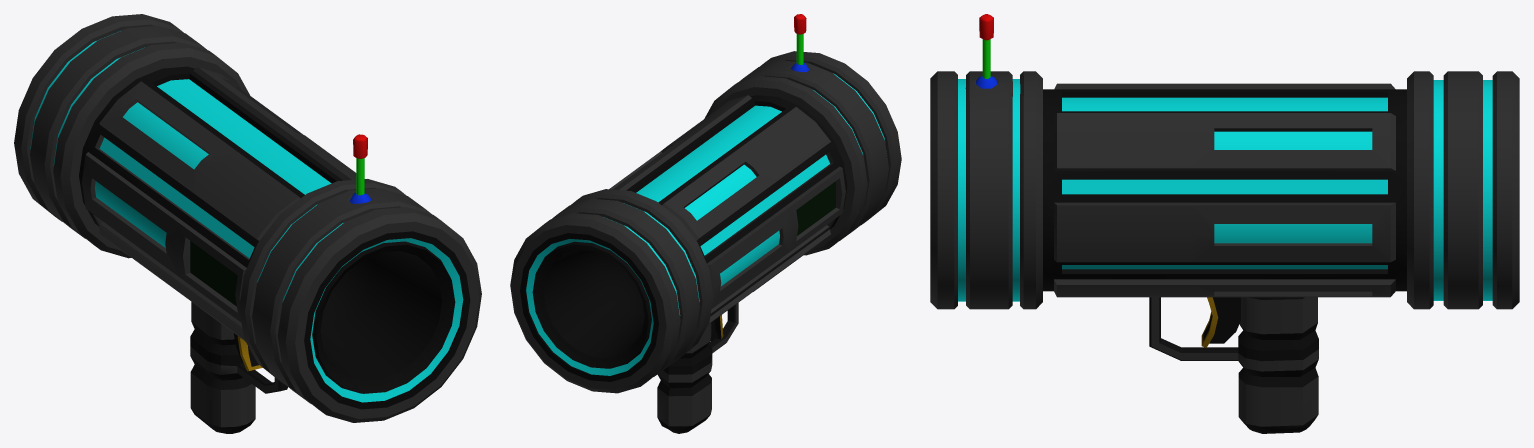
Rendered from homing_bazooka.fbx.
The picture shows the model from 3 angles, left to right: view 1: azimuth 30°, elevation 25°; view 2: azimuth 150°, elevation 25°; view 3: azimuth 270°, elevation 25°; orthographic projection. The views are drawn at different scales.
Parts seen in each view (by area): view 1: polySurface1; view 2: polySurface1; view 3: polySurface1.
Part boxes in pixels (left/top/right/bottom): polySurface1: left=14, top=14, right=481, bottom=433; polySurface1: left=510, top=14, right=901, bottom=433; polySurface1: left=930, top=14, right=1519, bottom=433.
Bounding box in the file's own units: 13.57 × 25.91 × 33.33.
